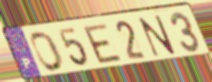2: (116, 19, 148, 60)
3: (170, 10, 201, 54)
5: (57, 26, 91, 69)
E: (81, 22, 124, 65)
N: (137, 14, 178, 59)
O: (30, 30, 65, 73)
